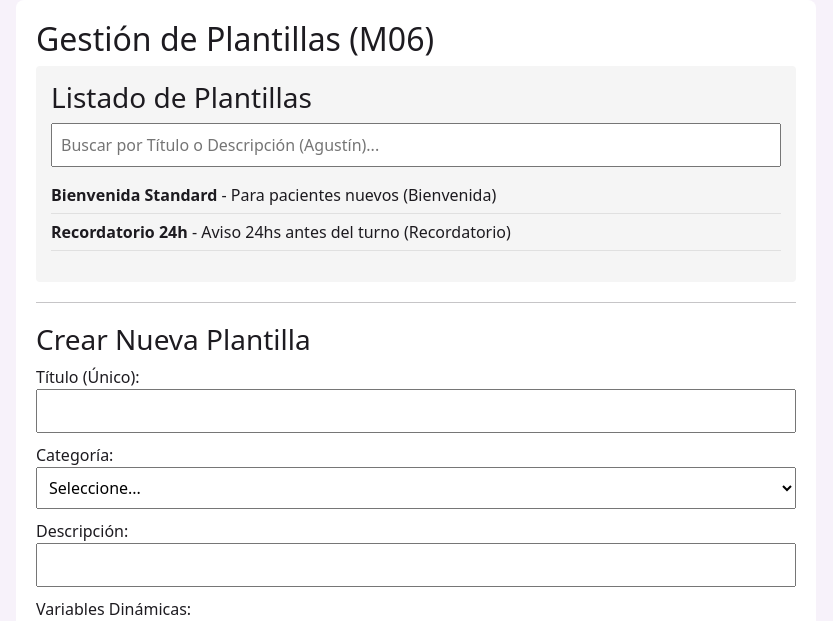
Test: AgendaYA - M06 Búsqueda dinámica de plantillas (Agustín Aguilera) › Escenario 4: Restablecer el listado completo al limpiar el campo de búsqueda
The image size is (833, 621).
Type "Bienvenida" into the field with test id "search-template-input".
click(416, 145); type("Bienvenida")  # box x1=51 y1=123 x2=781 y2=167
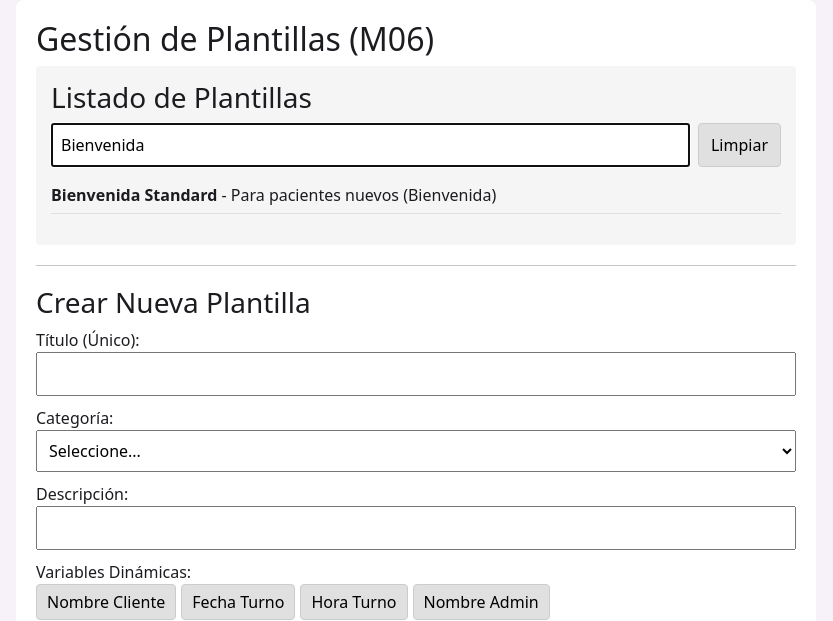
Now the number of list items with test id "template-item" is 1, box x1=51 y1=177 x2=781 y2=214
Now the button with test id "clear-search-button" is shown
# Hacer clic en el botón de limpieza de filtro
Click the button with test id "clear-search-button".
click(740, 145)  # box x1=698 y1=123 x2=781 y2=167
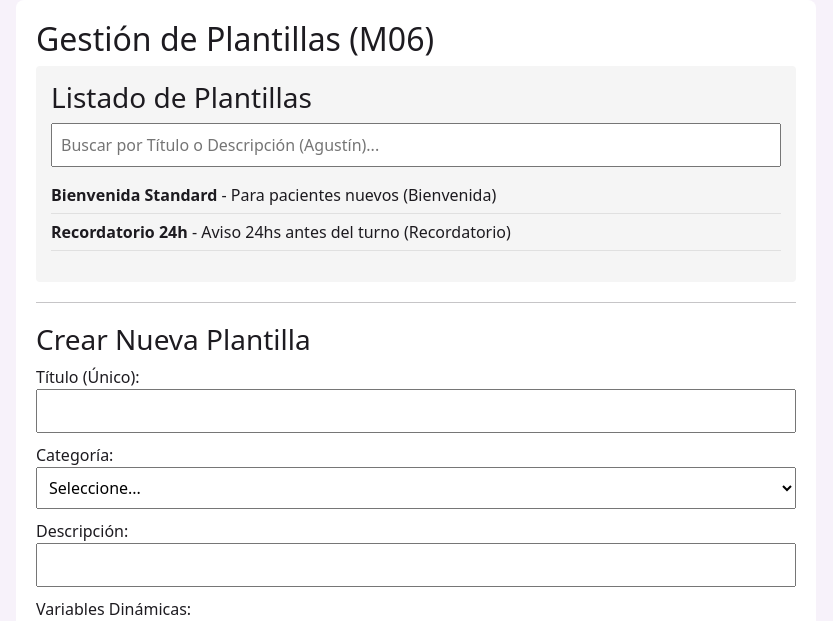
Expected: the text "Bienvenida Standard" is shown, x1=51 y1=184 x2=217 y2=206
Now the number of list items with test id "template-item" is 2, box x1=51 y1=177 x2=781 y2=214; x1=51 y1=214 x2=781 y2=251
Now the text "Recordatorio 24h" is shown, box x1=51 y1=221 x2=188 y2=243
